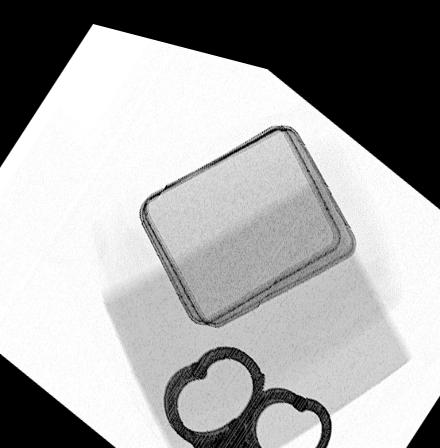HandCuffs: (161, 332, 335, 448)
